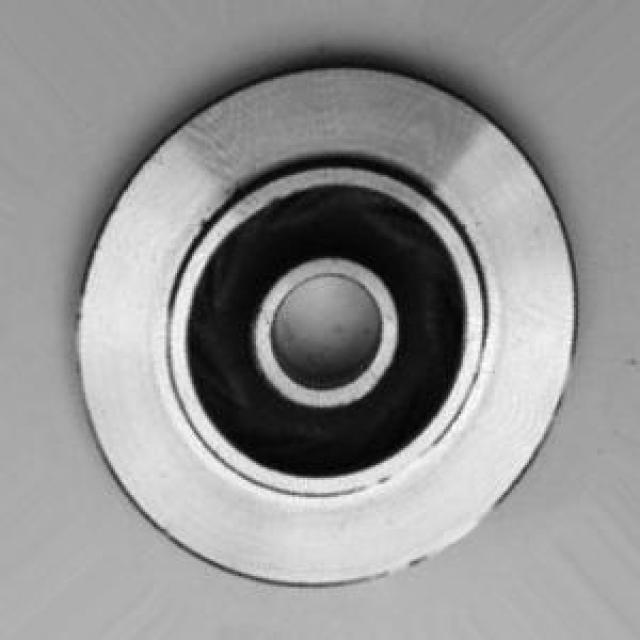Defect: (184, 208, 223, 239)
